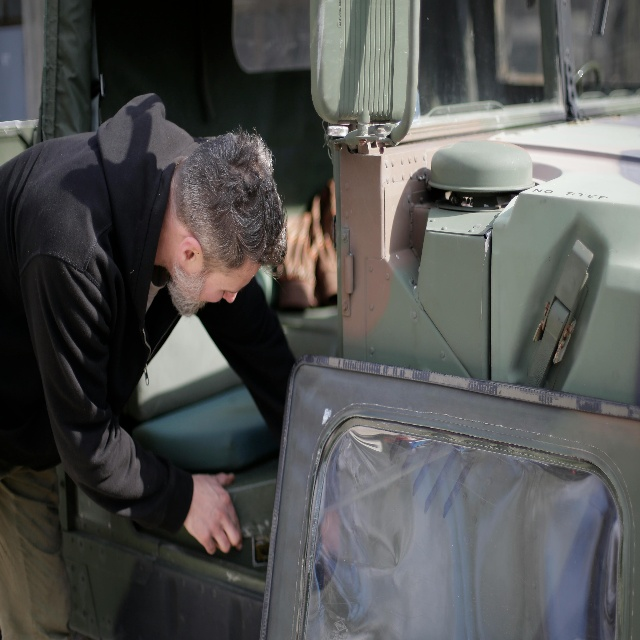Sin_guantes: (187, 466, 245, 559)
